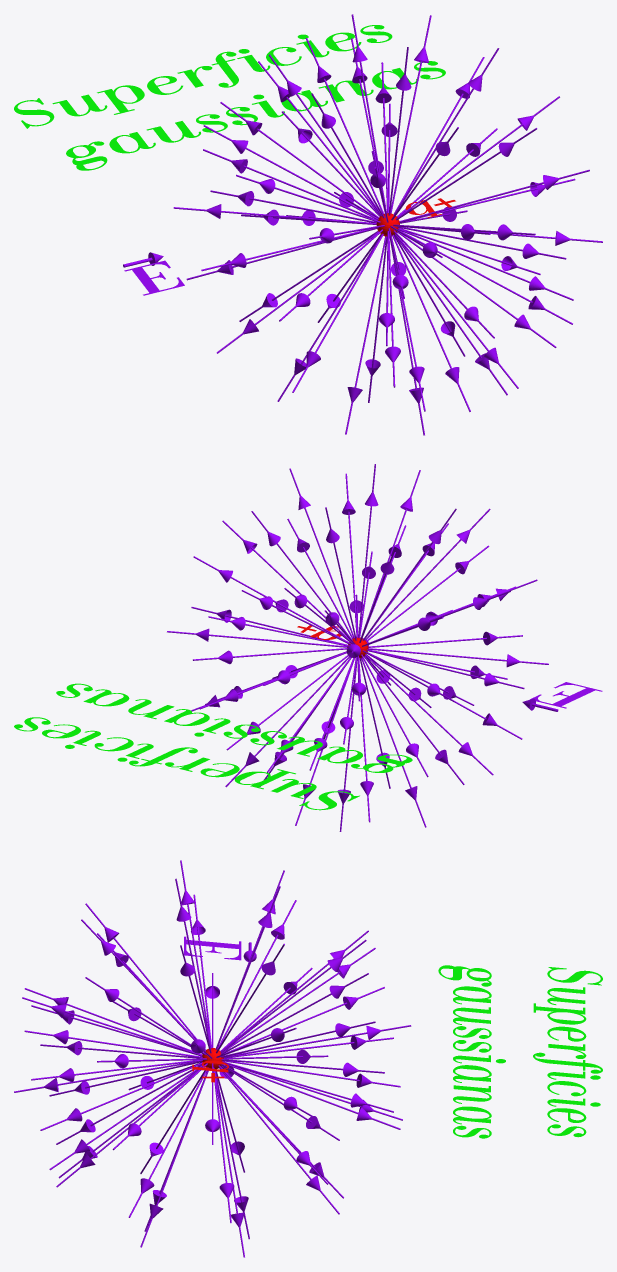
Rendered from modelo carga p.glb.
3 renders of one model, top to bottom at view 1: azimuth 30°, elevation 25°; view 2: azimuth 150°, elevation 25°; view 3: azimuth 270°, elevation 25°, orthographic. The views are drawn at different scales.
Parts seen in each view (by area): view 1: Sphere.001, Text.001, Sphere.002; view 2: Sphere.001, Text.001, Sphere.002; view 3: Sphere.001, Text.001, Sphere.002.
Boxes of the visible parts, x1,y1,x2,y2 form: Sphere.001: (173, 14, 602, 435); Text.001: (14, 25, 445, 170); Sphere.002: (123, 198, 455, 295); Sphere.001: (167, 464, 548, 831); Text.001: (14, 683, 412, 810); Sphere.002: (297, 625, 602, 711); Sphere.001: (14, 860, 411, 1257); Text.001: (438, 965, 602, 1138); Sphere.002: (184, 936, 256, 1082).
Size of the model in its own units: 24.29 by 19.68 by 29.18.
